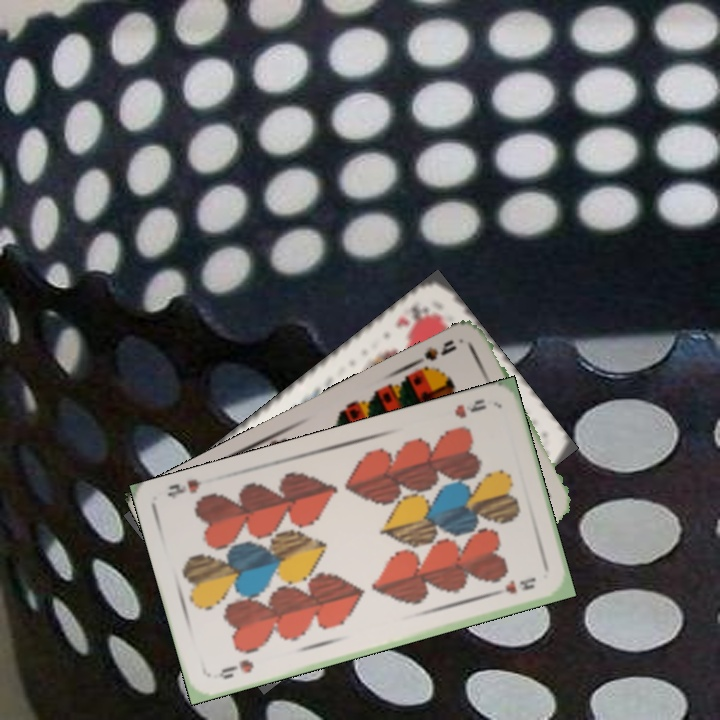H9: (215, 655, 256, 682), (450, 394, 490, 421)
HK: (392, 297, 430, 331)
S9: (408, 335, 459, 377)
